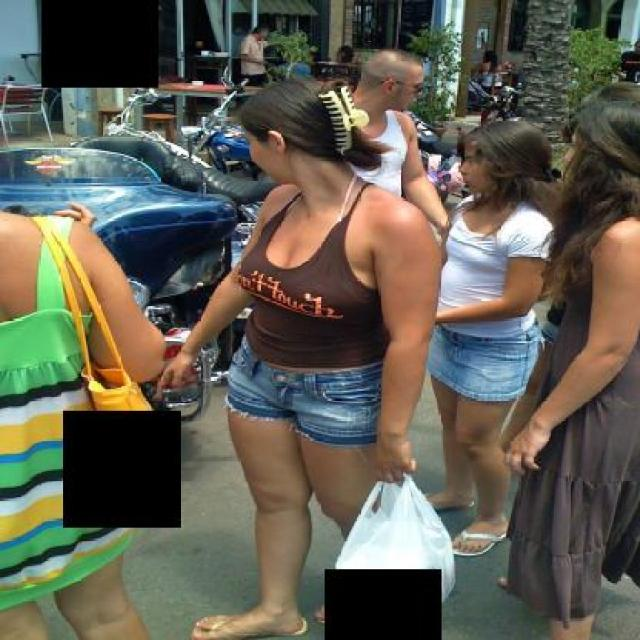plastic bag: (336, 472, 452, 634)
